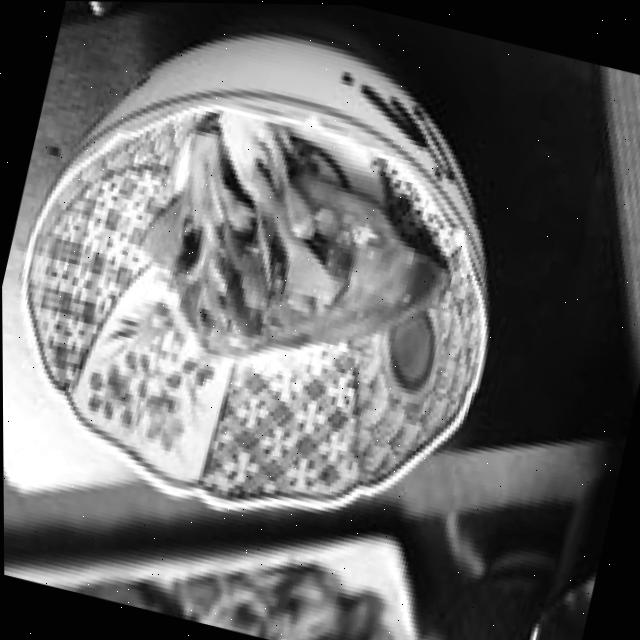熟制海鲜: (86, 107, 459, 438)
